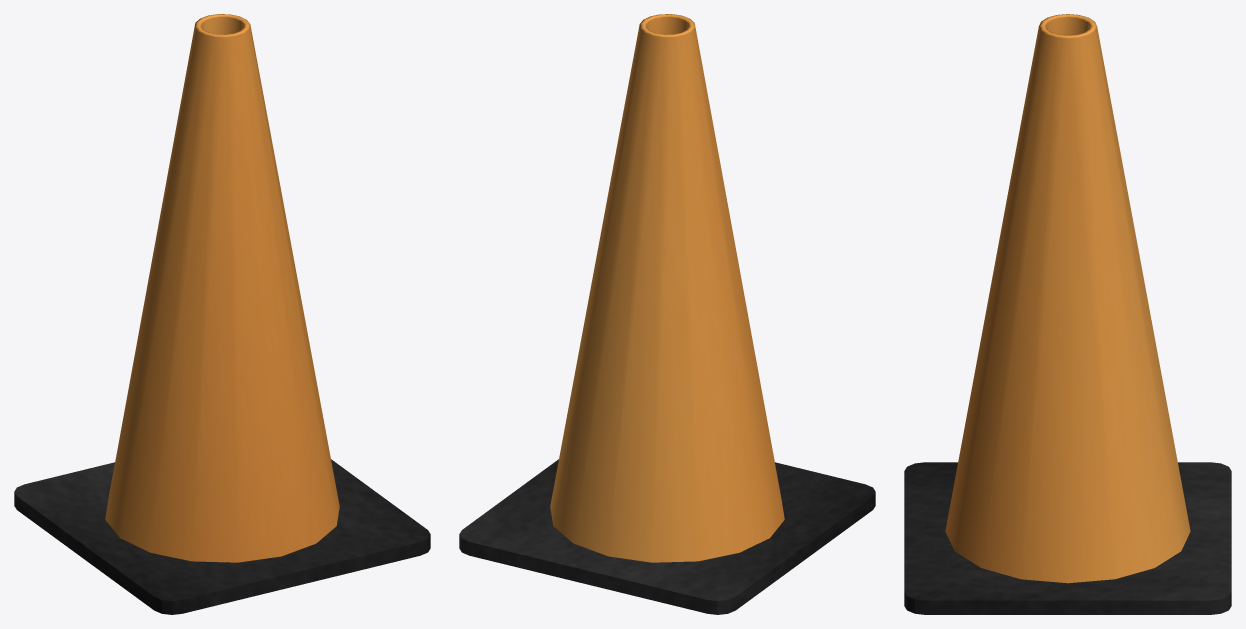
Rendered from ConeBasic.fbx.
3 views of the same model, side by side, from view 1: azimuth 30°, elevation 25°; view 2: azimuth 150°, elevation 25°; view 3: azimuth 270°, elevation 25° (orthographic). The views are drawn at different scales.
Visible parts, largest first — view 1: ConeBasic; view 2: ConeBasic; view 3: ConeBasic.
Part boxes in pixels (box(x1,y1,x2,y2)): ConeBasic: box(14, 14, 430, 614); ConeBasic: box(459, 14, 875, 614); ConeBasic: box(904, 14, 1231, 614).
Size of the model in its own units: 39.06 by 68.48 by 39.06.
1 material, 1 textured.
